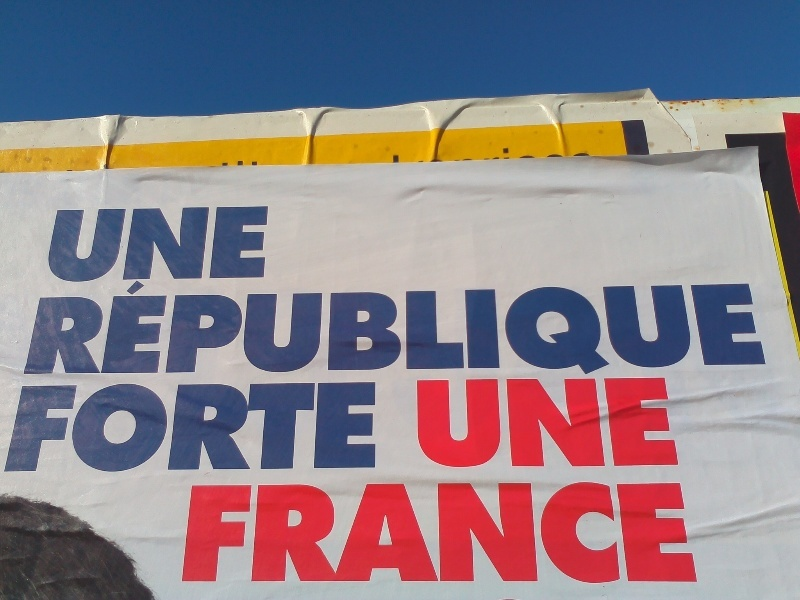text: (193, 481, 208, 585), (209, 481, 224, 585), (225, 481, 240, 585), (241, 481, 256, 585), (257, 481, 272, 585), (273, 481, 288, 585), (289, 481, 304, 585), (305, 481, 320, 585), (321, 481, 336, 585), (337, 481, 352, 585), (353, 481, 368, 585), (369, 481, 384, 585), (385, 481, 400, 585), (401, 481, 416, 585), (417, 481, 432, 585), (433, 481, 448, 585), (449, 481, 464, 585), (465, 481, 480, 585), (481, 481, 496, 585), (497, 481, 512, 585), (513, 481, 528, 585), (529, 481, 544, 585), (545, 481, 560, 585), (561, 481, 576, 585), (577, 481, 592, 585), (593, 481, 608, 585), (609, 481, 624, 585), (625, 481, 640, 585), (641, 481, 656, 585), (657, 481, 672, 585), (673, 481, 688, 585), (49, 278, 64, 377), (65, 278, 80, 377), (81, 278, 96, 377), (97, 278, 112, 377), (113, 278, 128, 377), (129, 278, 144, 377), (145, 278, 160, 377), (161, 278, 176, 377), (177, 278, 192, 377), (193, 278, 208, 377), (209, 278, 224, 377), (225, 278, 240, 377), (241, 278, 256, 377), (257, 278, 272, 377), (273, 278, 288, 377), (289, 278, 304, 377), (305, 278, 320, 377), (321, 278, 336, 377), (337, 278, 352, 377), (353, 278, 368, 377), (369, 278, 384, 377), (385, 278, 400, 377), (401, 278, 416, 377), (417, 278, 432, 377), (433, 278, 448, 377), (449, 278, 464, 377), (465, 278, 480, 377), (481, 278, 496, 377), (497, 278, 512, 377), (513, 278, 528, 377), (529, 278, 544, 377), (545, 278, 560, 377), (561, 278, 576, 377), (577, 278, 592, 377), (593, 278, 608, 377), (609, 278, 624, 377), (625, 278, 640, 377), (641, 278, 656, 377), (657, 278, 672, 377), (673, 278, 688, 377), (689, 278, 704, 377), (705, 278, 720, 377), (721, 278, 736, 377), (737, 278, 752, 377), (753, 278, 768, 377), (33, 381, 48, 474), (49, 381, 64, 474), (65, 381, 80, 474), (81, 381, 96, 474), (97, 381, 112, 474), (113, 381, 128, 474), (129, 381, 144, 474), (145, 381, 160, 474), (161, 381, 176, 474), (177, 381, 192, 474), (193, 381, 208, 474), (209, 381, 224, 474), (225, 381, 240, 474), (241, 381, 256, 474), (257, 381, 272, 474), (273, 381, 288, 474), (289, 381, 304, 474), (305, 381, 320, 474), (321, 381, 336, 474), (337, 381, 352, 474), (353, 381, 368, 474), (417, 377, 432, 468), (433, 377, 448, 468), (449, 377, 464, 468), (465, 377, 480, 468), (481, 377, 496, 468), (497, 377, 512, 468), (513, 377, 528, 468), (529, 377, 544, 468), (545, 377, 560, 468), (561, 377, 576, 468), (577, 377, 592, 468), (593, 377, 608, 468), (609, 377, 624, 468), (625, 377, 640, 468), (641, 377, 656, 468), (657, 377, 672, 468), (19, 381, 32, 474), (65, 206, 80, 282), (81, 206, 96, 282), (97, 206, 112, 282), (113, 206, 128, 282), (129, 206, 144, 282), (145, 206, 160, 282), (161, 206, 176, 282), (177, 206, 192, 282), (193, 206, 208, 282), (209, 206, 224, 282), (225, 206, 240, 282), (241, 206, 256, 282), (257, 206, 270, 282), (689, 481, 698, 585), (369, 381, 379, 474), (40, 278, 48, 377), (54, 206, 64, 282), (673, 377, 680, 468), (191, 481, 192, 585), (415, 377, 416, 468)
